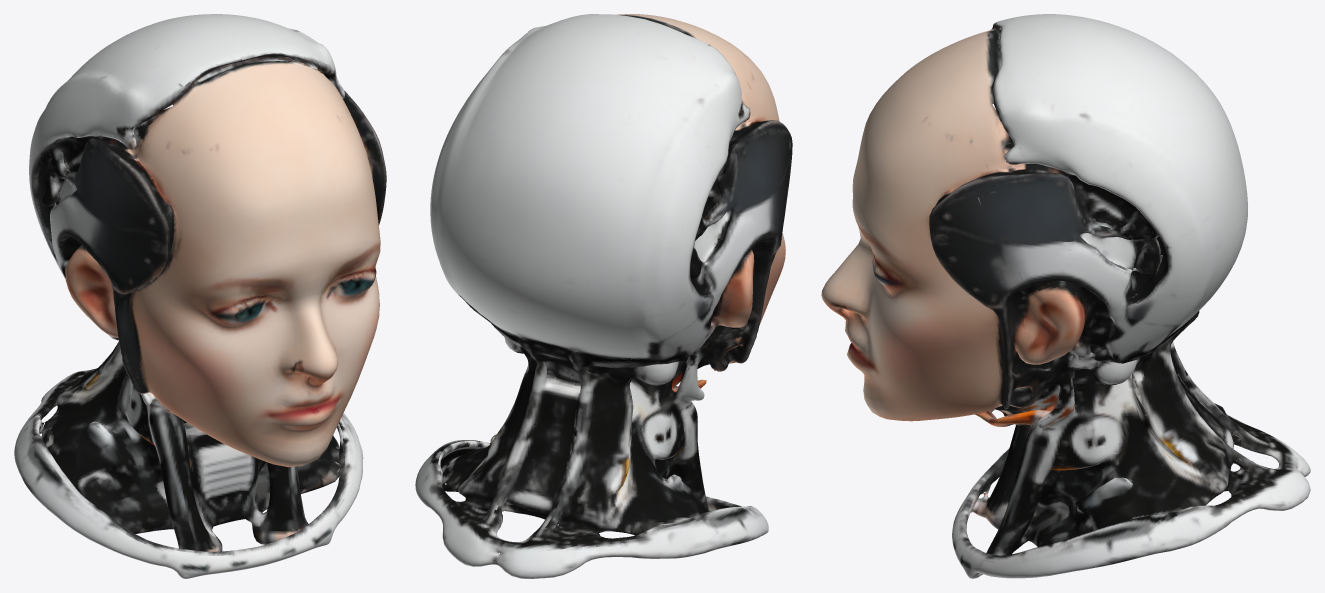
The picture shows the model from 3 angles, left to right: view 1: azimuth 30°, elevation 25°; view 2: azimuth 150°, elevation 25°; view 3: azimuth 270°, elevation 25°; orthographic projection.
Visible parts, largest first — view 1: model; view 2: model; view 3: model.
Part boxes in pixels (x1,y1,x2,y2): model: (14, 14, 386, 578); model: (415, 14, 792, 578); model: (821, 14, 1310, 578).
Bounding box in the file's own units: 1.24 × 1.9 × 1.65.
1 material, 1 textured.
